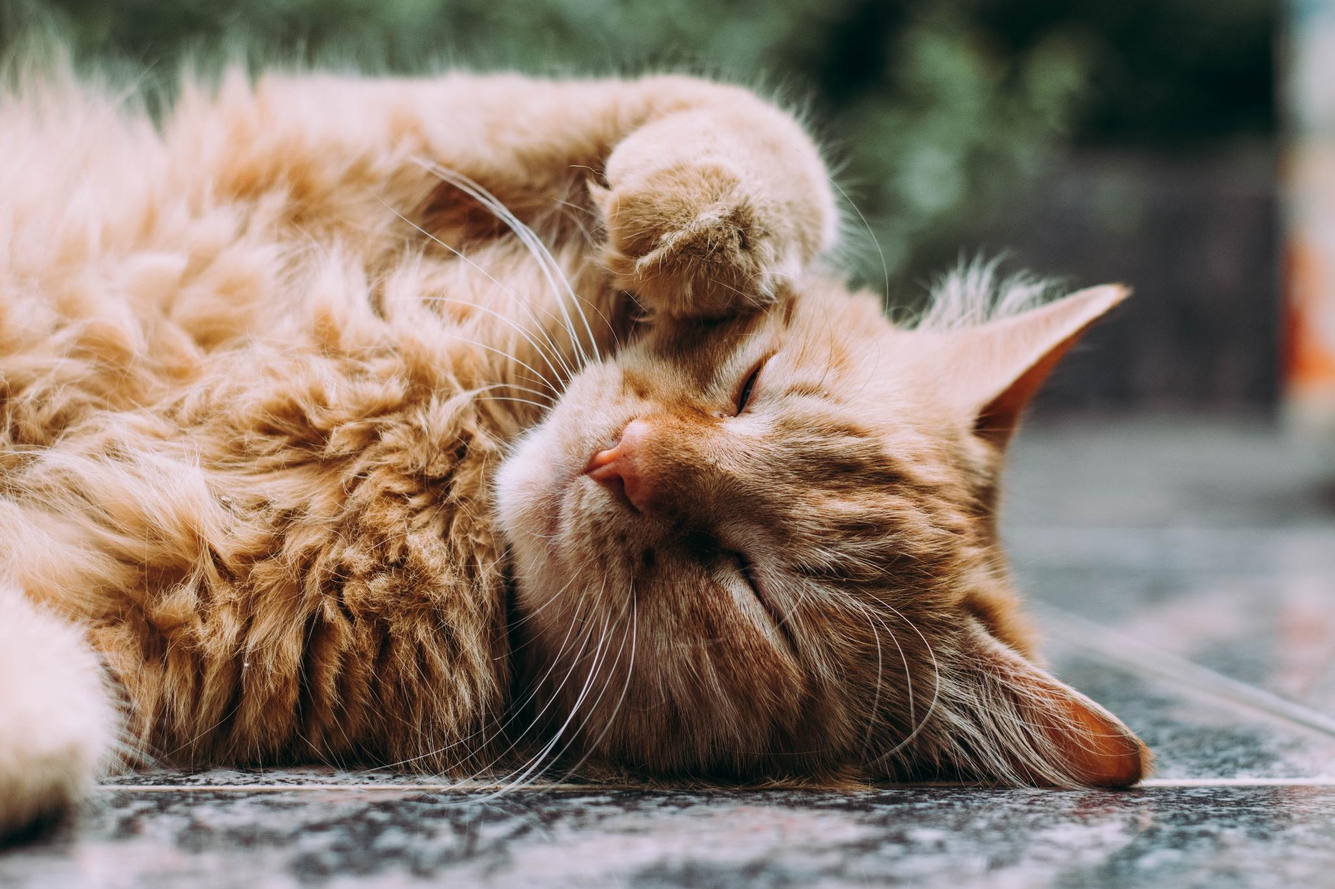cat: (1, 30, 1157, 830)
